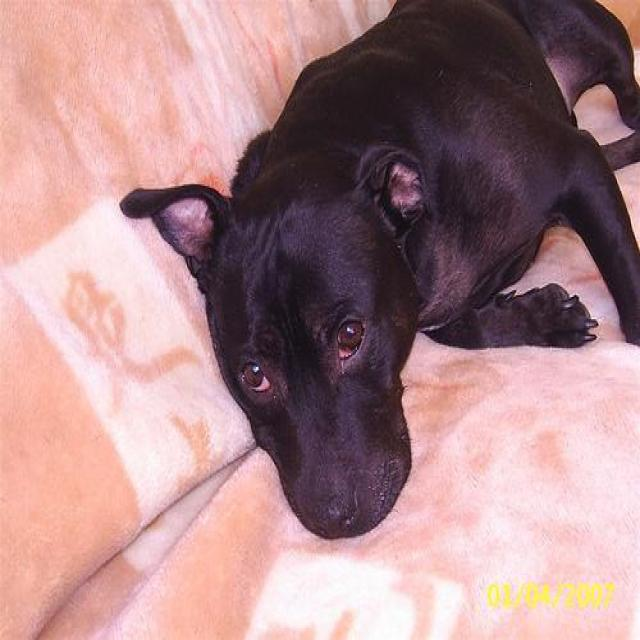staffordshire_bullterrier: (117, 3, 638, 544)
